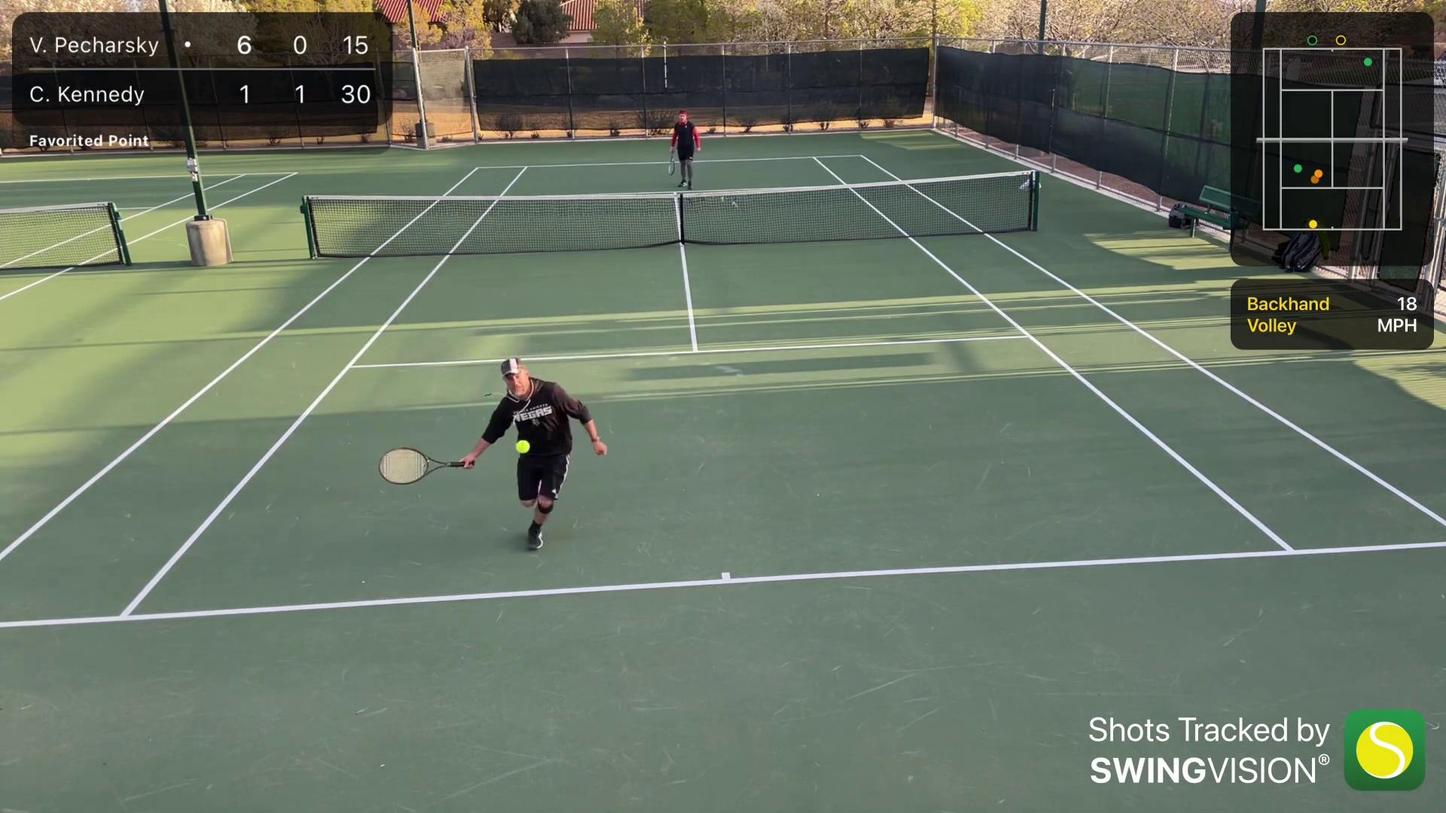ball: (511, 437, 536, 455)
